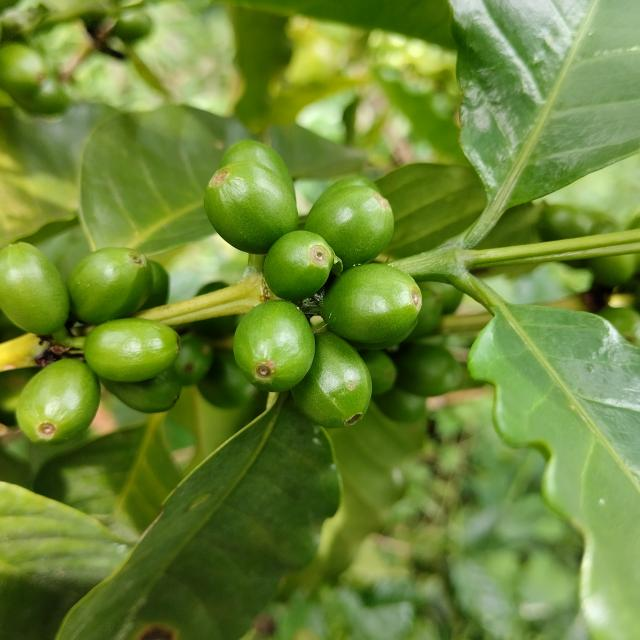green: (204, 160, 298, 254), (321, 263, 422, 349), (291, 332, 372, 429), (233, 300, 315, 393), (305, 185, 394, 269), (15, 359, 100, 445), (66, 247, 153, 325), (0, 242, 69, 335), (83, 318, 180, 382), (263, 230, 336, 301), (99, 368, 181, 413), (220, 139, 293, 187), (315, 176, 379, 204), (139, 260, 169, 310)
